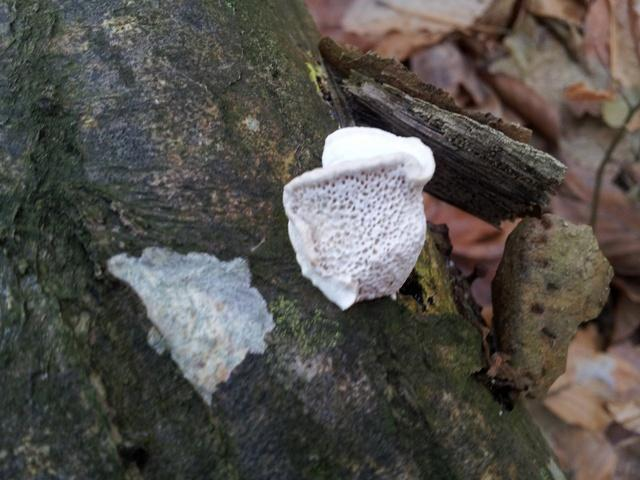Non-edible Mushroom: (91, 244, 283, 409), (280, 124, 436, 310)
